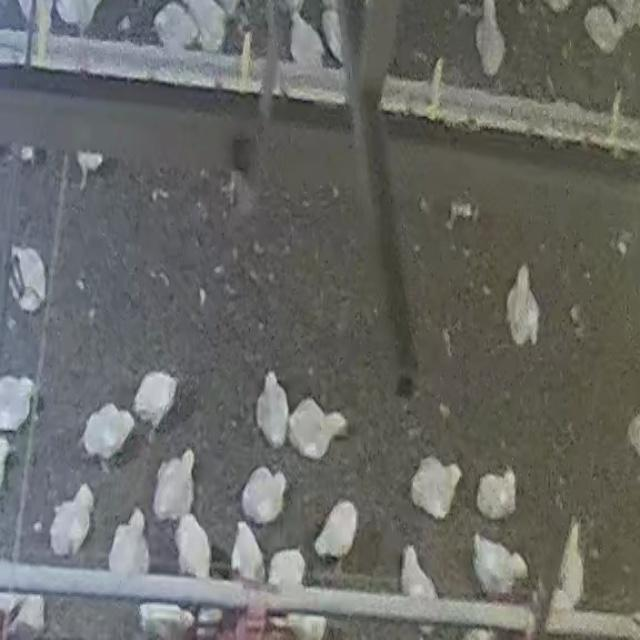chicken: (81, 401, 137, 475), (288, 398, 346, 461), (472, 532, 528, 597), (132, 370, 180, 444), (152, 446, 198, 522), (48, 483, 94, 557), (409, 456, 463, 519), (253, 368, 291, 452), (108, 508, 151, 578), (314, 498, 361, 562), (240, 465, 288, 525), (506, 264, 540, 348), (8, 245, 49, 313), (174, 510, 212, 578), (231, 520, 267, 582), (475, 468, 517, 521), (583, 4, 623, 52), (266, 548, 307, 590)
